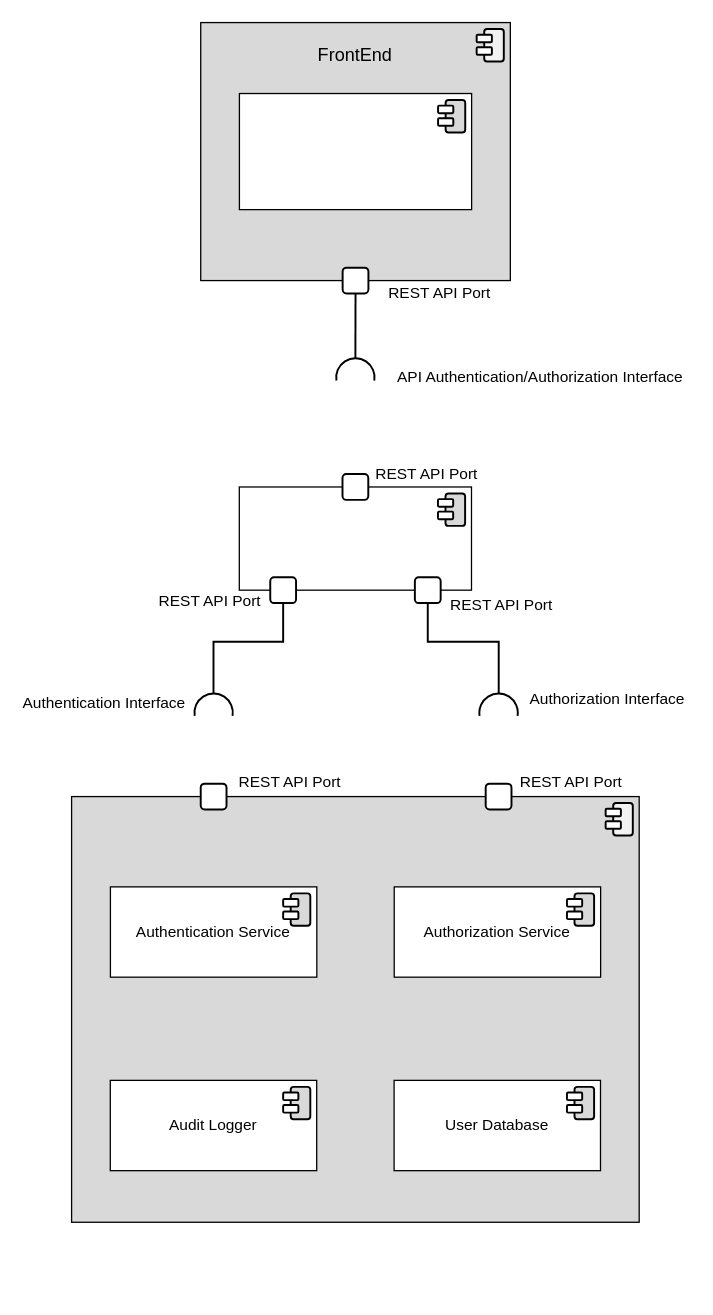
The diagram is 713 pixels wide and 1315 high, and some of its shapes have lost their labels. Each missing label, with the box of its shape:
API Gateway: (238, 486, 471, 590)
Authentication/Authorization Service: (70, 795, 639, 1222)
User Interface: (238, 92, 472, 210)
